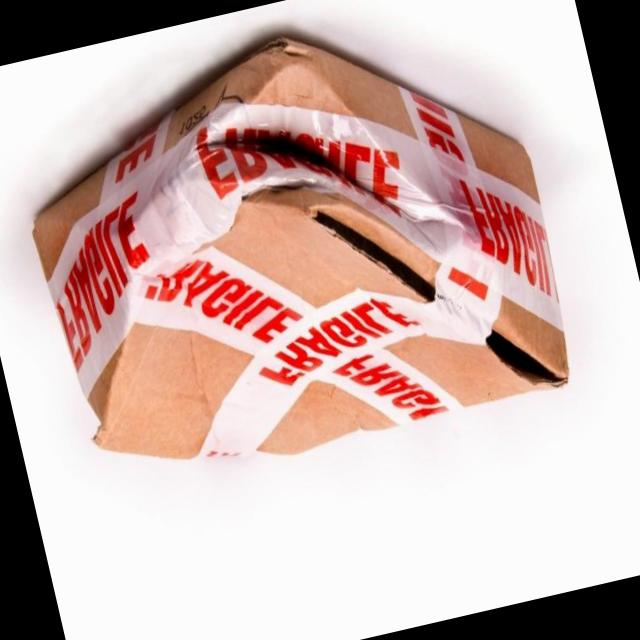Garbage: (0, 0, 593, 517)
